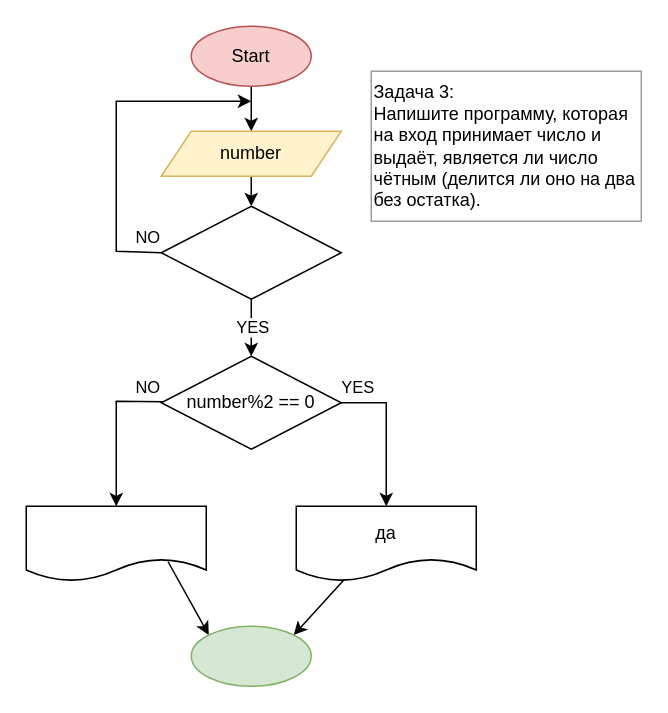
Image size: 668x713. Some labels were removed from this diagram. The shapes that lost their labels are listed below. From the top down, each one's centre as x and y in pixels, then its label:
At point 250,252: "number - число?".
At point 115,543: "нет".
At point 250,655: "End".
